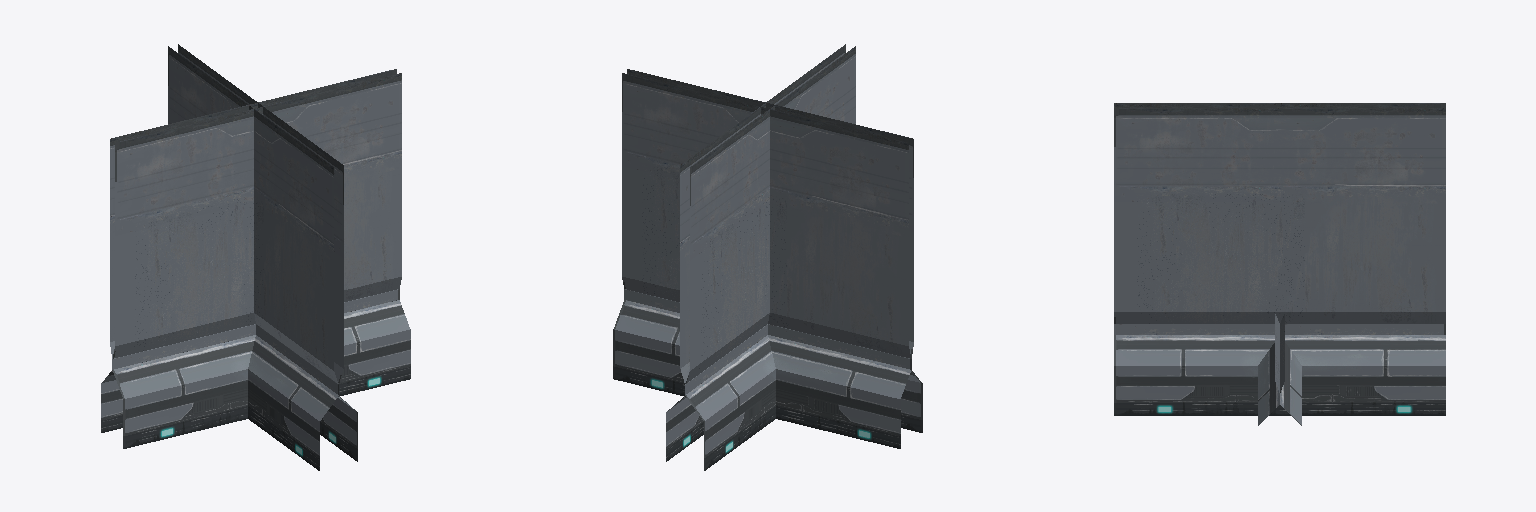
3 views of the same model, side by side, from view 1: azimuth 30°, elevation 25°; view 2: azimuth 150°, elevation 25°; view 3: azimuth 270°, elevation 25° (orthographic).
Visible parts, largest first — view 1: Plane.011_Plane.000_Plane.011_Plane.003, Plane.011_Plane.000_Plane.011_Plane.000, Plane.011_Plane.000, Plane.011_Plane.002; view 2: Plane.011_Plane.002, Plane.011_Plane.000_Plane.011_Plane.000, Plane.011_Plane.000, Plane.011_Plane.000_Plane.011_Plane.003; view 3: Plane.011_Plane.000, Plane.011_Plane.000_Plane.011_Plane.000, Plane.011_Plane.002, Plane.011_Plane.000_Plane.011_Plane.003.
Part boxes in pixels (left/top/right/bottom): Plane.011_Plane.000_Plane.011_Plane.003: left=113, top=73, right=410, bottom=448; Plane.011_Plane.000_Plane.011_Plane.000: left=168, top=46, right=338, bottom=470; Plane.011_Plane.000: left=178, top=44, right=357, bottom=461; Plane.011_Plane.002: left=101, top=69, right=399, bottom=432; Plane.011_Plane.002: left=613, top=73, right=910, bottom=448; Plane.011_Plane.000_Plane.011_Plane.000: left=685, top=46, right=855, bottom=470; Plane.011_Plane.000: left=666, top=44, right=845, bottom=461; Plane.011_Plane.000_Plane.011_Plane.003: left=624, top=69, right=922, bottom=432; Plane.011_Plane.000: left=1114, top=108, right=1445, bottom=415; Plane.011_Plane.000_Plane.011_Plane.000: left=1114, top=103, right=1445, bottom=334; Plane.011_Plane.002: left=1280, top=314, right=1301, bottom=425; Plane.011_Plane.000_Plane.011_Plane.003: left=1258, top=314, right=1279, bottom=425.
Bounding box in the file's own units: 2 × 2 × 2.
4 materials, 1 textured.